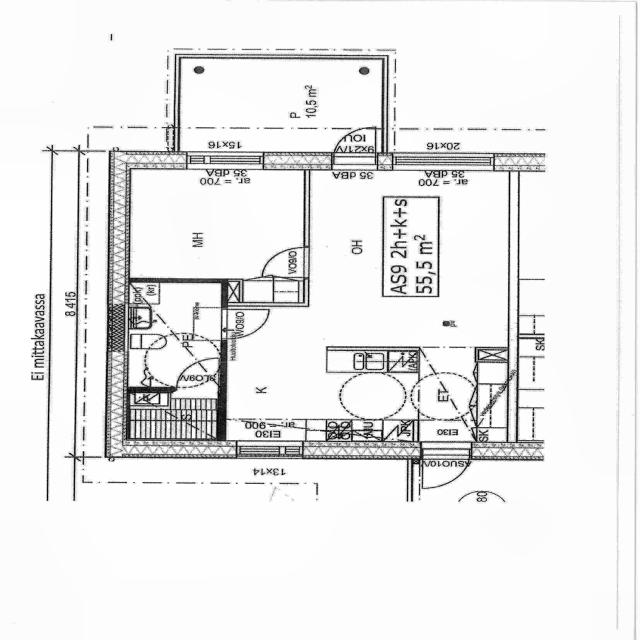Doors-dC8s: (236, 442, 300, 459), (330, 156, 380, 172), (422, 444, 472, 460), (300, 246, 316, 280), (222, 311, 226, 344)
Window: (394, 153, 497, 169), (187, 154, 262, 168)
